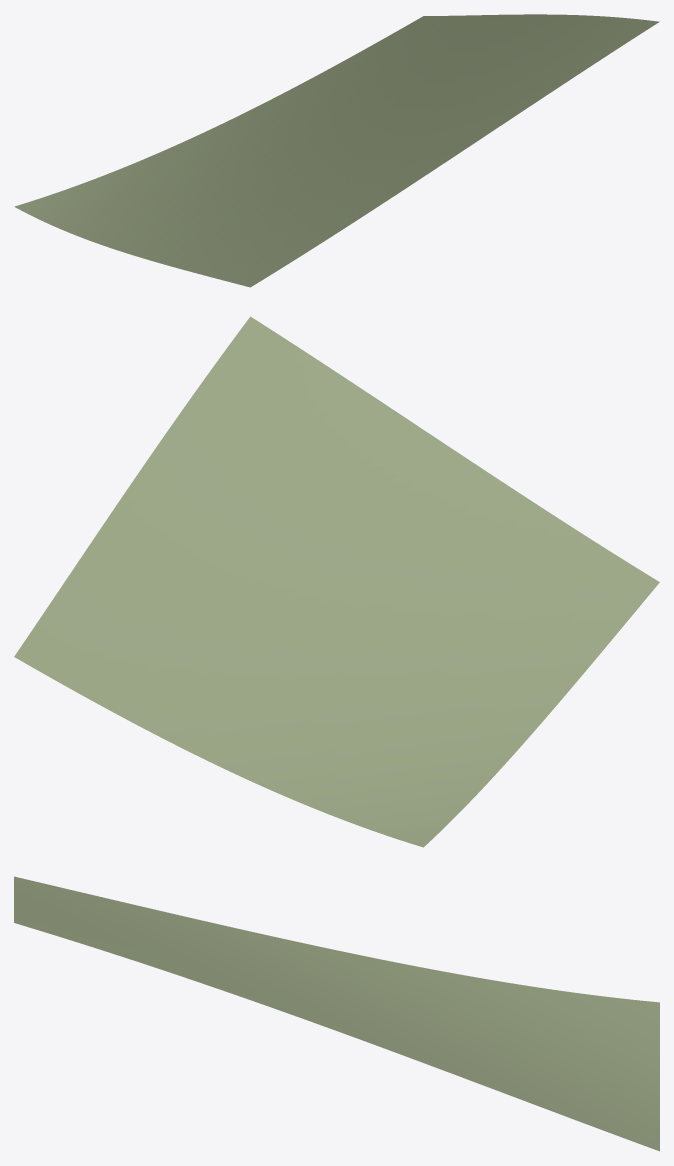
Rendered from expanse-13-3.glb.
3 renders of one model, top to bottom at view 1: azimuth 30°, elevation 25°; view 2: azimuth 150°, elevation 25°; view 3: azimuth 270°, elevation 25°, orthographic. The views are drawn at different scales.
Parts seen in each view (by area): view 1: expanse-13-3; view 2: expanse-13-3; view 3: expanse-13-3.
Boxes of the visible parts, left/top/right/bottom form: expanse-13-3: left=14, top=14, right=659, bottom=287; expanse-13-3: left=14, top=316, right=659, bottom=847; expanse-13-3: left=14, top=876, right=659, bottom=1151.
Size of the model in its own units: 256 by 154 by 256.
